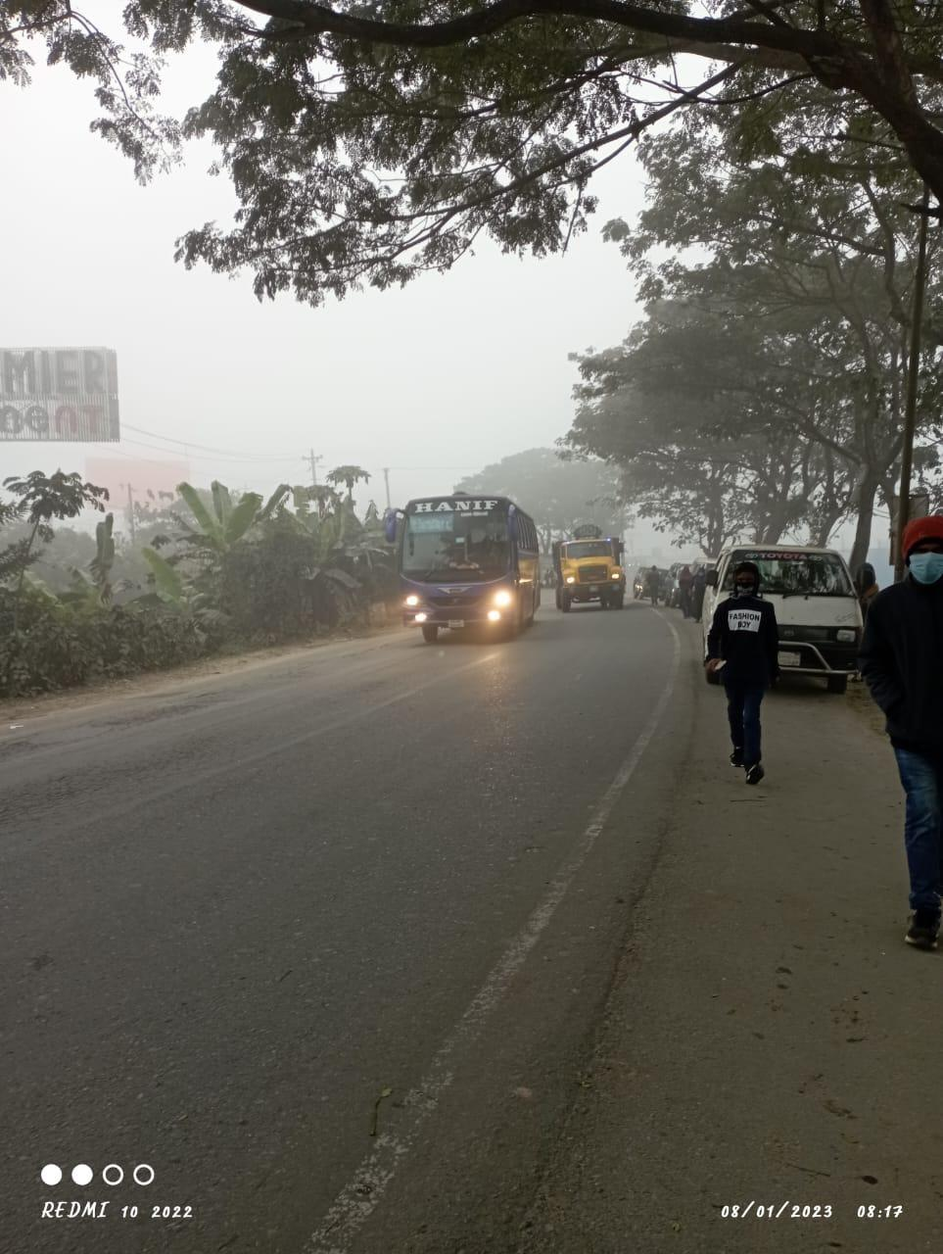Bus: (377, 485, 544, 642)
Car: (699, 532, 874, 697)
Truck: (549, 524, 636, 614)
